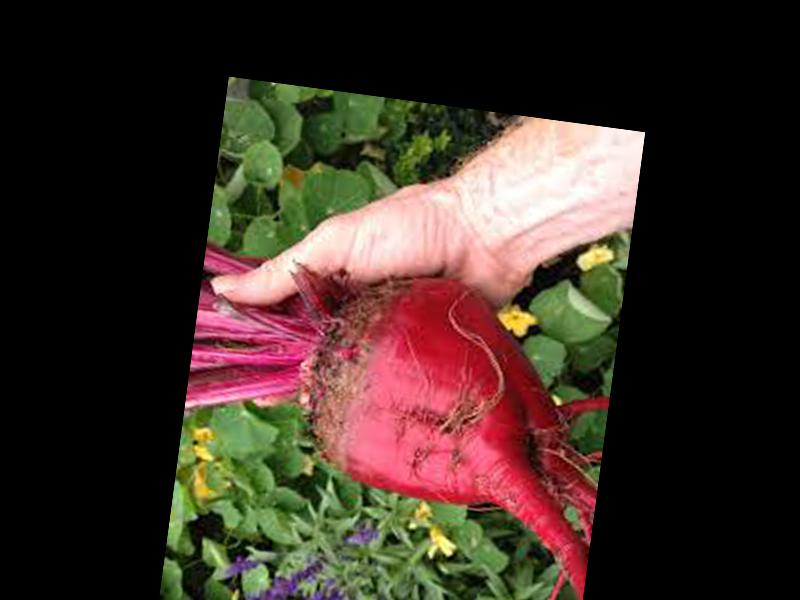Beet: (169, 246, 622, 598)
